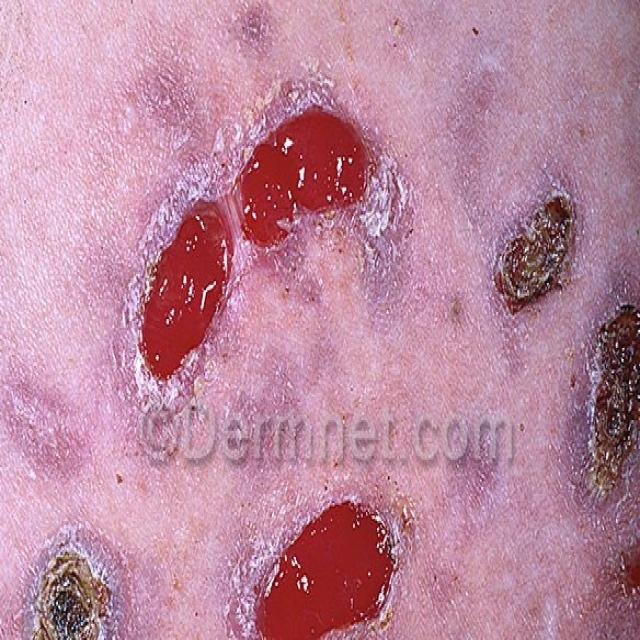Acne: (92, 65, 423, 408), (212, 477, 414, 640), (492, 142, 586, 336), (0, 508, 122, 640), (590, 272, 640, 515), (0, 378, 84, 472), (222, 0, 297, 59), (623, 36, 640, 149)
